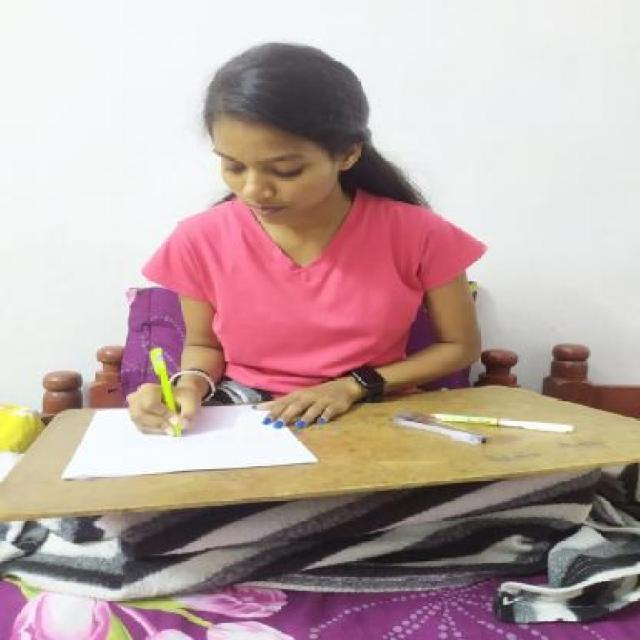good: (55, 16, 544, 471)
